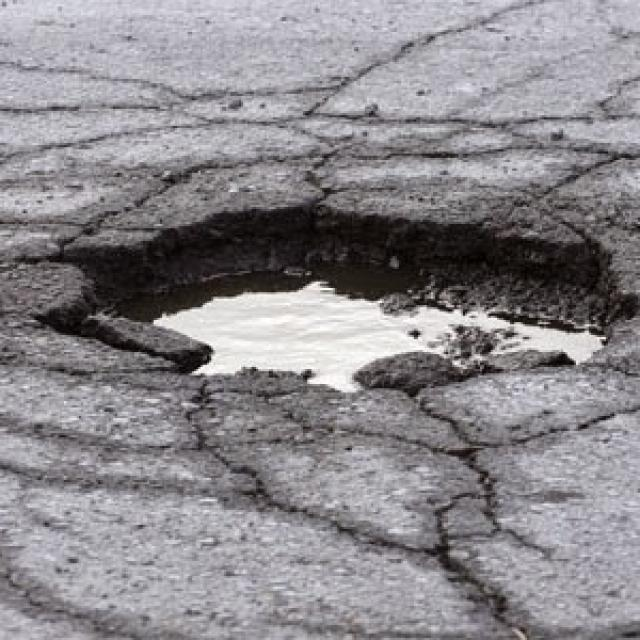pothole: (16, 182, 640, 404)
